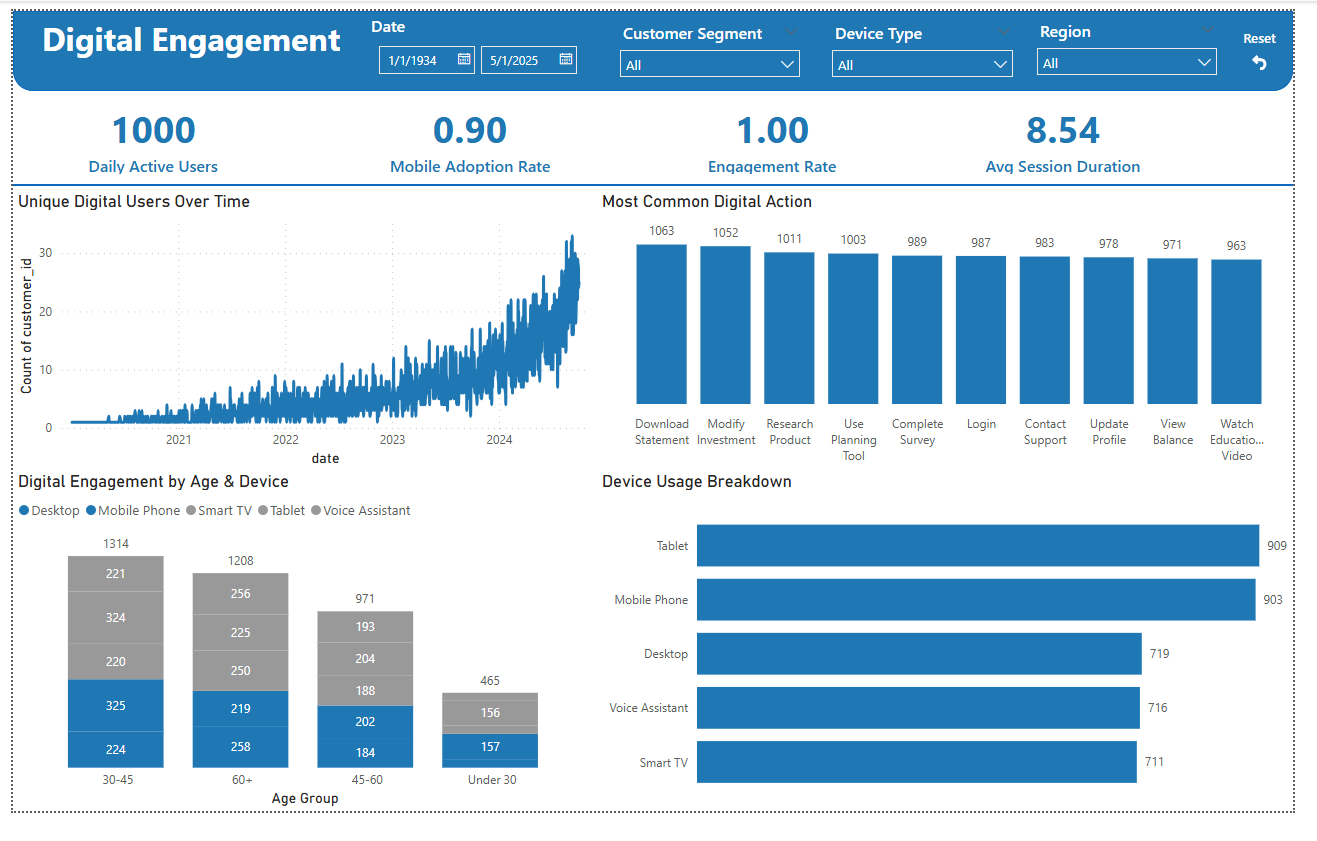

The dashboard page shown, as its layout file describes it:
{"tool":"powerbi","page":{"name":"Digital Engagement","canvas":[1280,800],"ordinal":4},"visuals":[{"type":"lineChart","title":"Unique Digital Users Over Time","fields":{"Category":["engagement.date"],"Y":["Count(engagement.customer_id)"]},"box":[0,179.9,583.6,280.1],"z":0},{"type":"clusteredBarChart","title":"Device Usage Breakdown","fields":{"Category":["engagement.device_type"],"Y":["Count(engagement.customer_id)"]},"box":[583.6,460,696,340],"z":1000},{"type":"columnChart","title":"Most Common Digital Action","fields":{"Category":["engagement.action_type"],"Y":["CountNonNull(engagement.action_type)"]},"box":[583.6,179.9,696,280.1],"z":2000},{"type":"columnChart","title":"Digital Engagement by Age & Device","fields":{"Category":["customers.Age Group"],"Series":["engagement.device_type"],"Y":["Count(engagement.customer_id)"]},"box":[0,460,583.6,340],"z":3000},{"type":"card","fields":{"Values":["Count(engagement.customer_id)"]},"box":[0,87.1,280.1,80.6],"z":4000},{"type":"card","fields":{"Values":["engagement.Engagement Rate"]},"box":[619.2,87.1,280.1,80.6],"z":5000},{"type":"card","fields":{"Values":["engagement.Mobile Adoption Rate"]},"box":[316.6,87.1,280.1,80.6],"z":6000},{"type":"card","fields":{"Values":["engagement.Avg Session Duration"]},"box":[909.6,87.1,280.1,80.6],"z":7000},{"type":"shape","box":[0,0,1280,80],"z":8000},{"type":"textbox","box":[24.4,0,328.8,72.1],"z":9000},{"type":"slicer","title":"Date","fields":{"Values":["Date.Date"]},"box":[353.2,3.7,230.4,68.4],"z":10000},{"type":"slicer","fields":{"Values":["customers.address_state"]},"box":[1013.6,3.7,200.5,68.4],"z":11000},{"type":"actionButton","title":"Reset","box":[1227.2,17.8,38.4,45],"z":12000},{"type":"shape","box":[0,167.7,1279.6,12.2],"z":13000},{"type":"slicer","fields":{"Values":["customers.customer_segment"]},"box":[596.7,5.6,200.5,68.4],"z":14000},{"type":"slicer","fields":{"Values":["engagement.device_type"]},"box":[809.4,5.6,200.5,68.4],"z":15000}]}

Visuals, with their boxes in screenshot pixels (x1, y1, x2, y2), scaled from the page's 1280x800 canvas onto the 1317x841 screenshot:
"Unique Digital Users Over Time" lineChart: [0,189,600,484]
"Device Usage Breakdown" clusteredBarChart: [600,484,1316,840]
"Most Common Digital Action" columnChart: [600,189,1316,484]
"Digital Engagement by Age & Device" columnChart: [0,484,600,840]
card - Count(engagement.customer_id): [0,92,288,176]
card - engagement.Engagement Rate: [637,92,925,176]
card - engagement.Mobile Adoption Rate: [326,92,614,176]
card - engagement.Avg Session Duration: [936,92,1224,176]
shape: [0,0,1316,84]
textbox: [25,0,363,76]
"Date" slicer: [363,4,600,76]
slicer - customers.address_state: [1043,4,1249,76]
"Reset" actionButton: [1263,19,1302,66]
shape: [0,176,1316,189]
slicer - customers.customer_segment: [614,6,820,78]
slicer - engagement.device_type: [833,6,1039,78]
